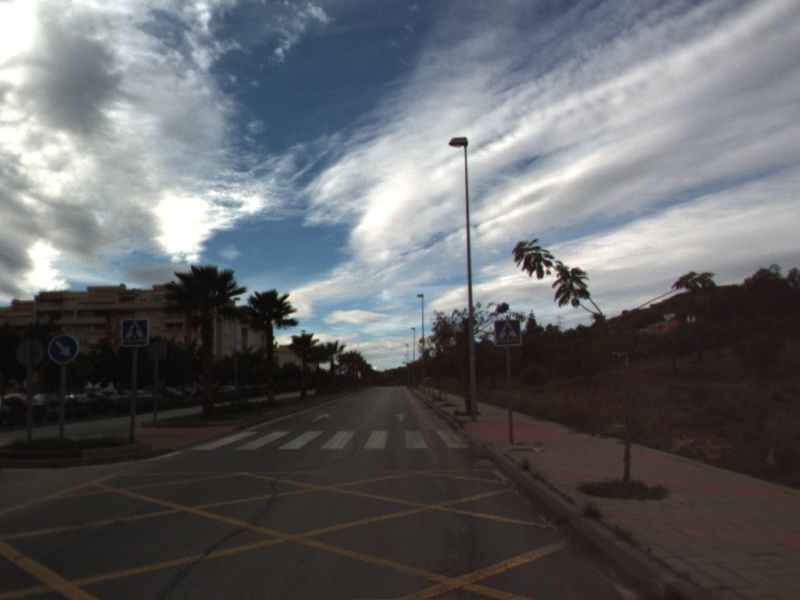STRAIGHT: (309, 411, 333, 424), (391, 410, 411, 424)
